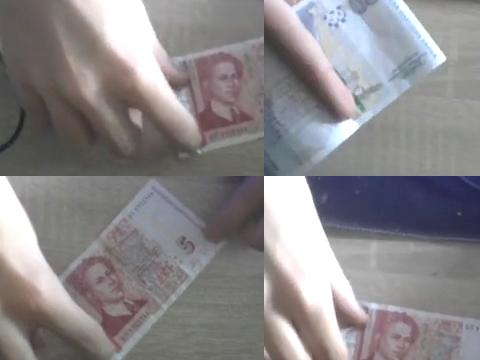20leva: (264, 0, 433, 176)
5leva: (59, 180, 227, 360), (174, 36, 264, 154), (354, 303, 480, 360)
